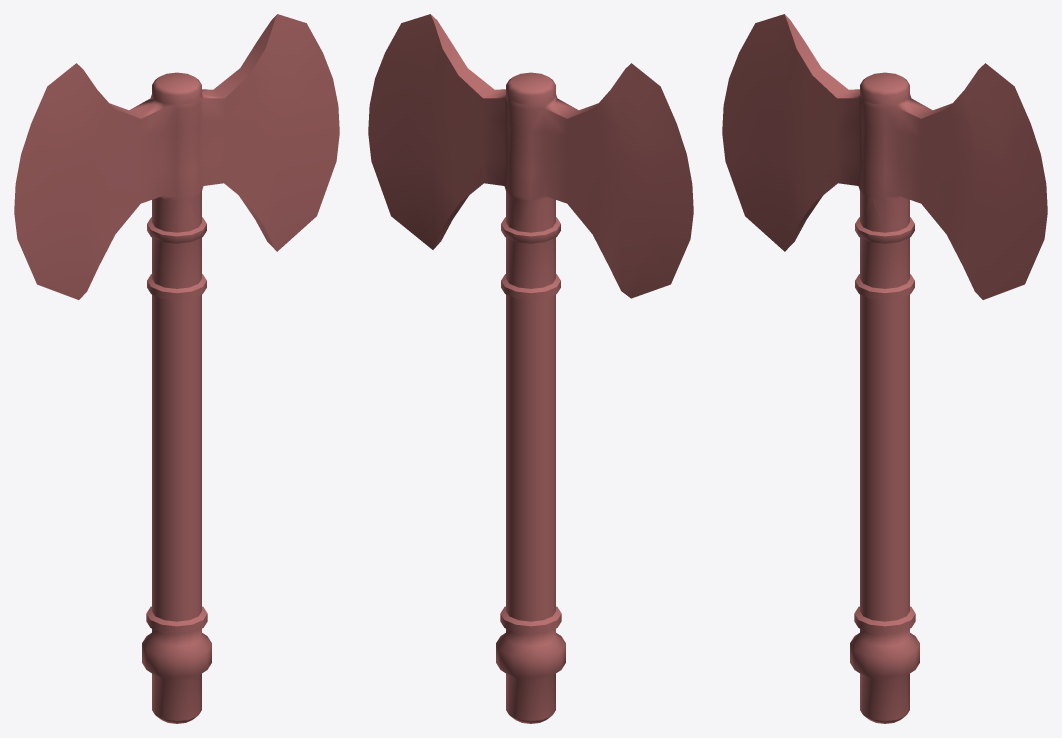
The model's file is Axe_1.fbx.
The picture shows the model from 3 angles, left to right: view 1: azimuth 30°, elevation 25°; view 2: azimuth 150°, elevation 25°; view 3: azimuth 330°, elevation 25°; orthographic projection.
Parts seen in each view (by area): view 1: TO2; view 2: TO2; view 3: TO2.
Part boxes in pixels (box(x1,y1,x2,y2)): TO2: box(14, 14, 339, 723); TO2: box(368, 14, 693, 723); TO2: box(722, 14, 1047, 723).
Bounding box in the file's own units: 114 × 227 × 21.28.
